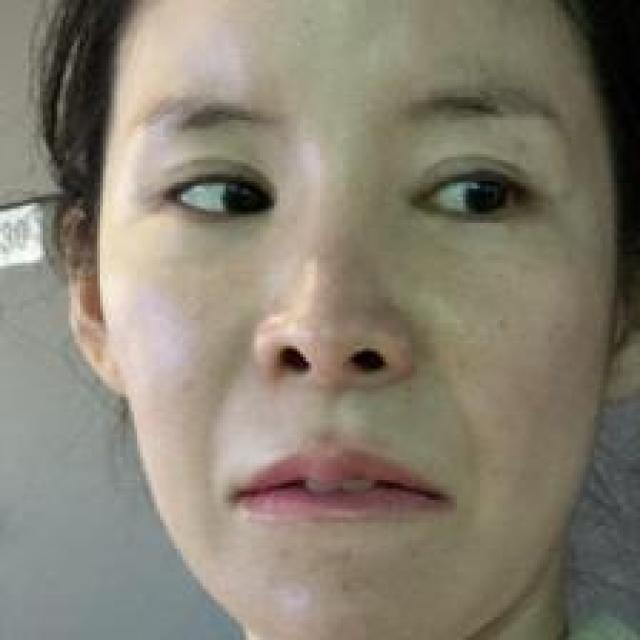fear: (131, 54, 556, 570)
